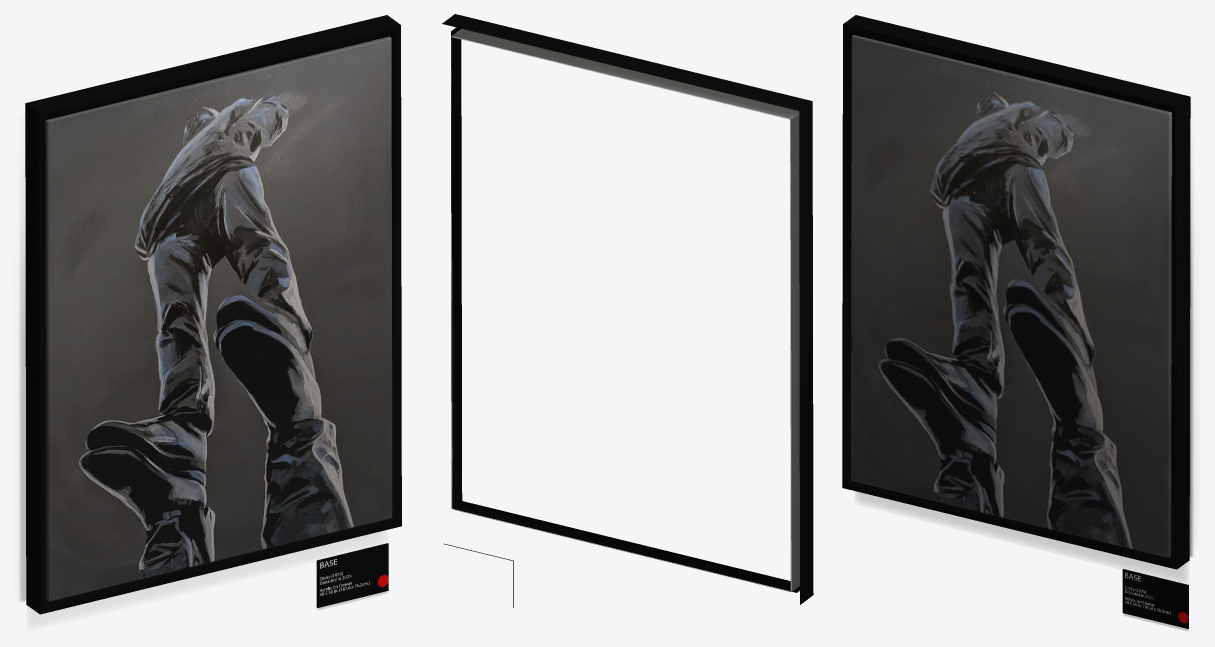
Rendered from transcending-myself.glb.
3 views of the same model, side by side, from view 1: azimuth 30°, elevation 25°; view 2: azimuth 150°, elevation 25°; view 3: azimuth 330°, elevation 25° (orthographic). The views are drawn at different scales.
Visible parts, largest first — view 1: Canvas, frame, title, Plane001; view 2: frame, Canvas; view 3: Canvas, frame, title, Plane001.
Part boxes in pixels (x1=…): Canvas: x1=45, y1=36, x2=392, y2=601; frame: x1=25, y1=15, x2=401, y2=628; title: x1=316, y1=543, x2=388, y2=610; Plane001: x1=18, y1=153, x2=26, y2=601; frame: x1=442, y1=14, x2=813, y2=604; Canvas: x1=451, y1=28, x2=799, y2=591; Canvas: x1=851, y1=34, x2=1171, y2=557; frame: x1=842, y1=15, x2=1190, y2=582; title: x1=1122, y1=569, x2=1188, y2=630; Plane001: x1=1189, y1=166, x2=1194, y2=557.
Size of the model in its own units: 8.47 by 12.24 by 0.5889.
3 materials, 2 textured.
